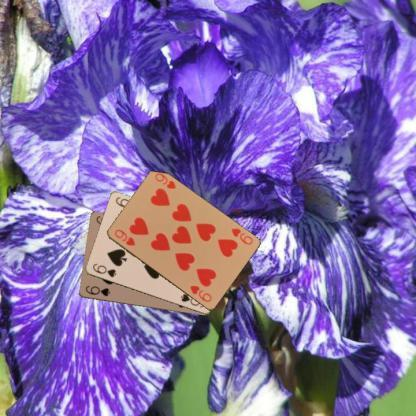6s: (90, 261, 118, 279), (82, 283, 112, 298)
9h: (229, 225, 254, 246), (112, 226, 136, 247)
